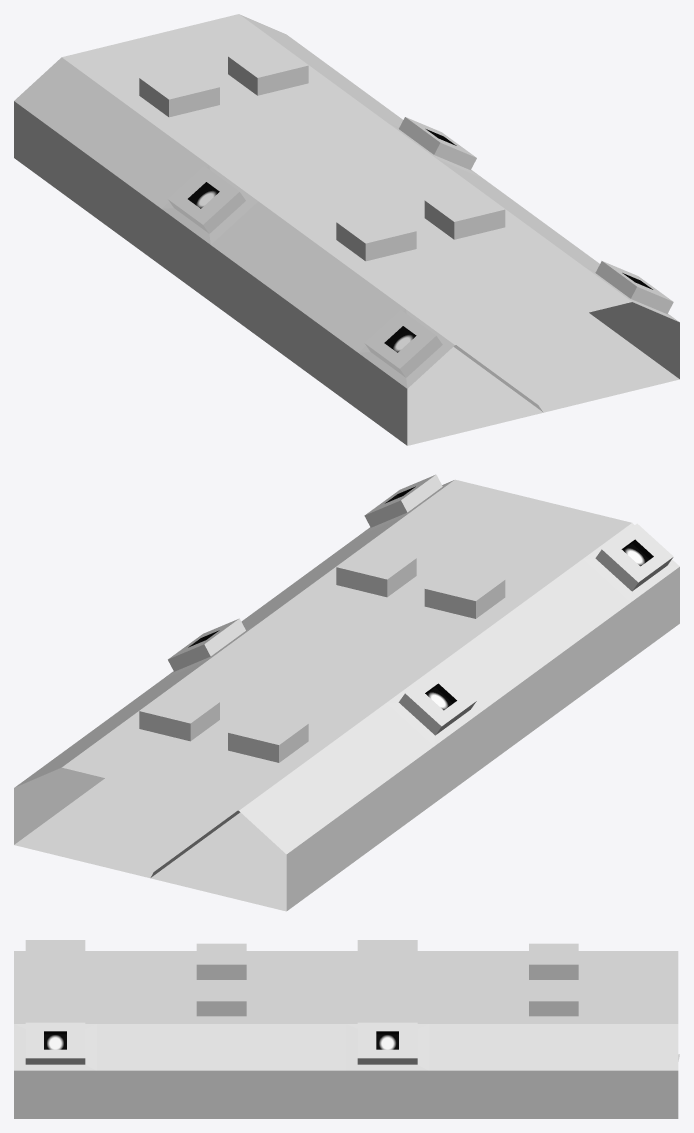
Rendered from TunnelSection1.fbx.
3 renders of one model, top to bottom at view 1: azimuth 30°, elevation 25°; view 2: azimuth 150°, elevation 25°; view 3: azimuth 270°, elevation 25°, orthographic. The views are drawn at different scales.
Parts seen in each view (by area): view 1: Tunnel1.002; view 2: Tunnel1.002; view 3: Tunnel1.002.
Part boxes in pixels (bbox=[...]): Tunnel1.002: bbox=[14, 14, 679, 445]; Tunnel1.002: bbox=[14, 474, 679, 911]; Tunnel1.002: bbox=[14, 940, 679, 1118].
Size of the model in its own units: 1609 by 600 by 4010.
5 materials, 2 textured.
